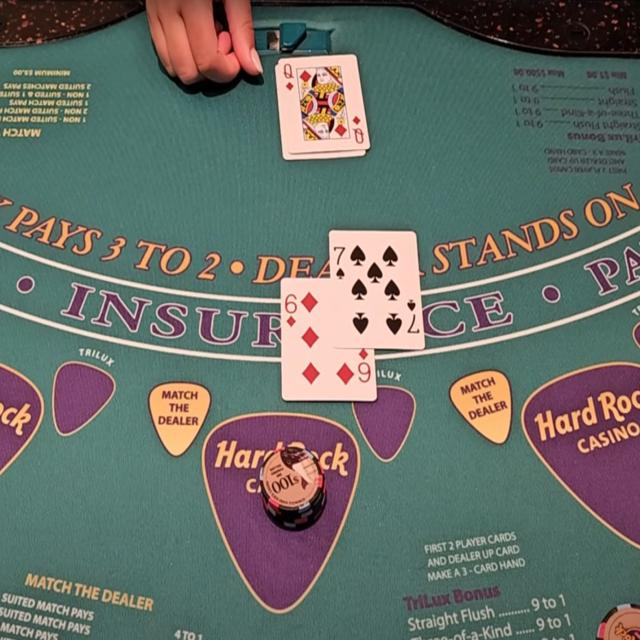6: (282, 290, 299, 316)
7: (330, 241, 347, 266)
Q: (281, 62, 295, 81)
